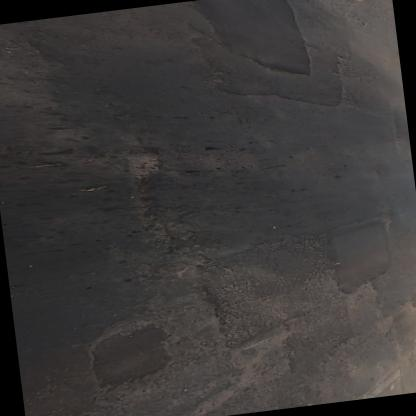manholes: (313, 0, 381, 8)
